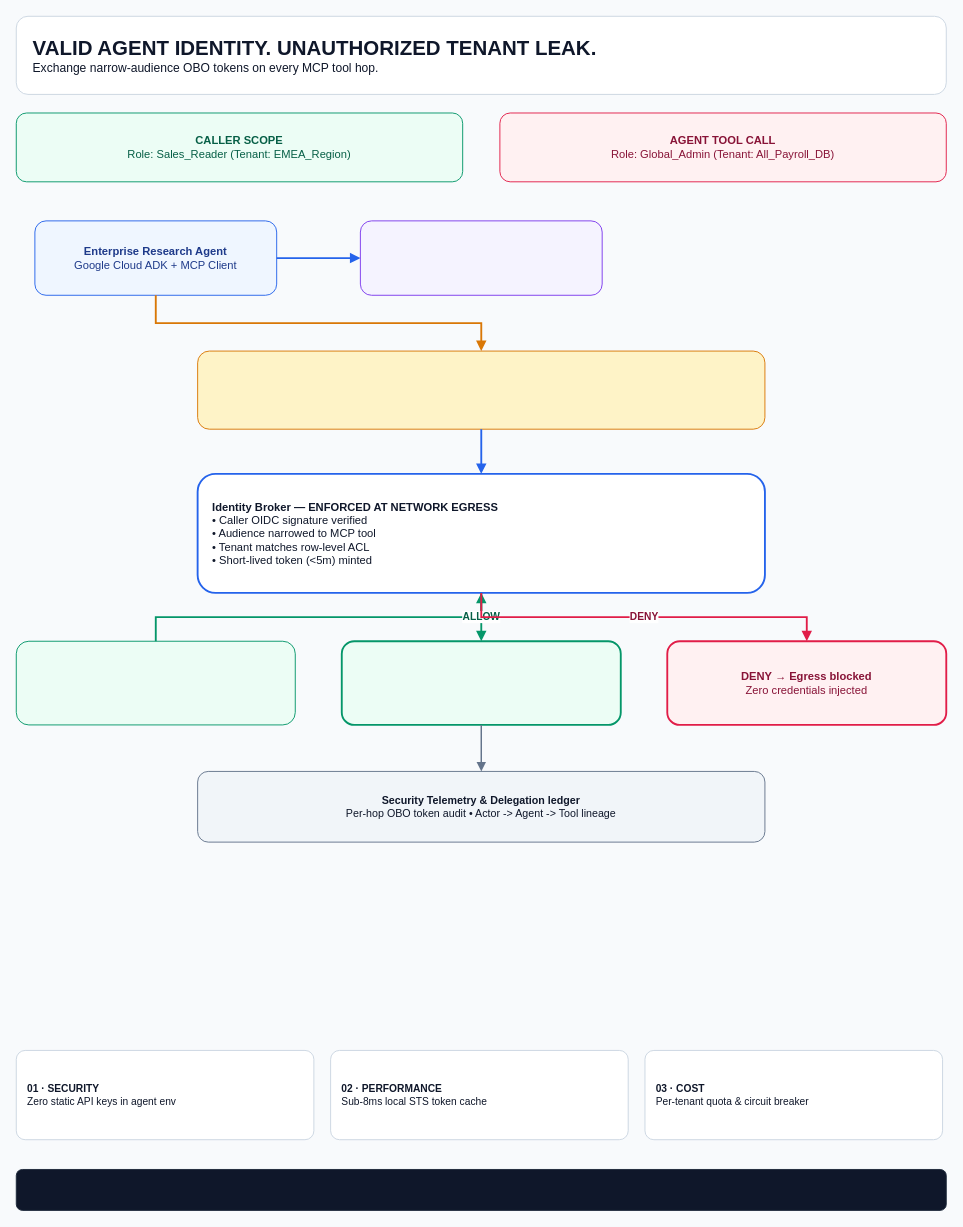
Some shapes in this 963 by 1227 pixel diagram are drawn without their labels. The centre of each missing label's shape, as x and y in pixels:
"ALLOW → Protected Data API Row-level tenant enforcement" goes at point 480,682.
"Enterprise Workforce IAM Token Exchange STS (RFC 8693 OBO attenuation)" goes at point 155,682.
"NITIN AGGARWAL • FLOW-02 • BLUEPRINT T85 • NOVEMBER 2026" goes at point 480,1189.
"Reasoning Model Vertex AI Gemini 3.8 Flash" goes at point 480,257.
"Zero-Trust MCP Gateway (OBO ENFORCEMENT POINT) RFC 8693 Token Exchange · OpenBao" goes at point 481,389.
